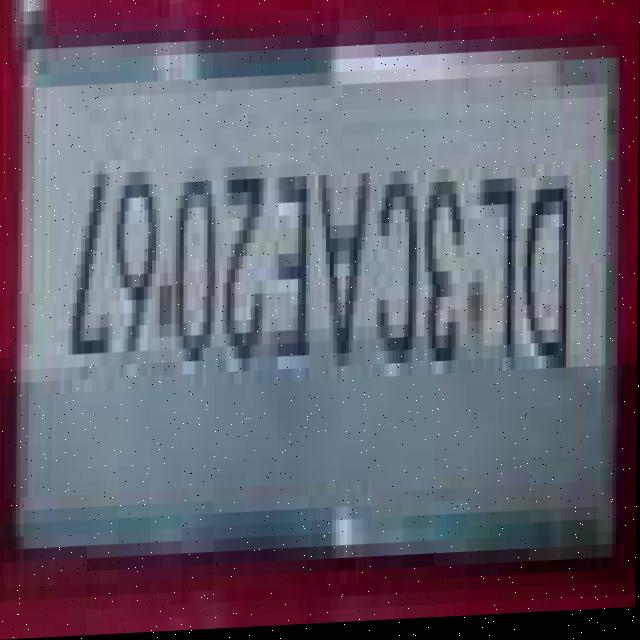plate: (20, 10, 621, 587)
